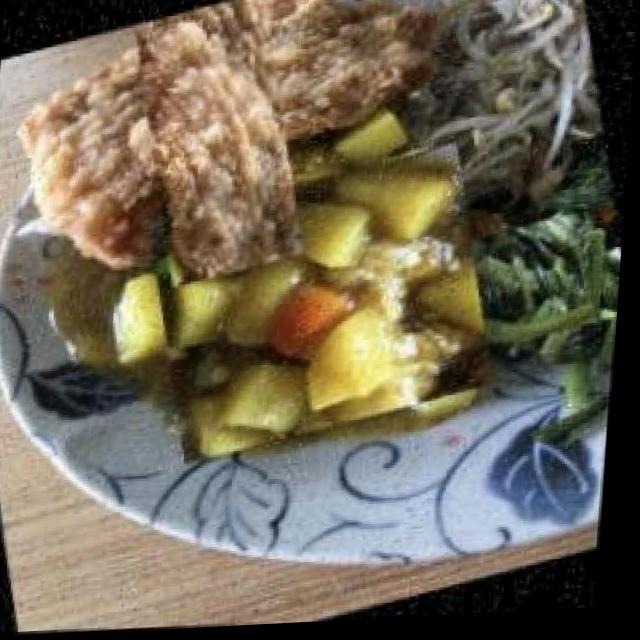curry: (135, 139, 517, 473)
fried_chicken: (64, 0, 368, 257)
mung_bean_sprouts: (428, 0, 618, 182)
water_spinach: (475, 192, 629, 371)
